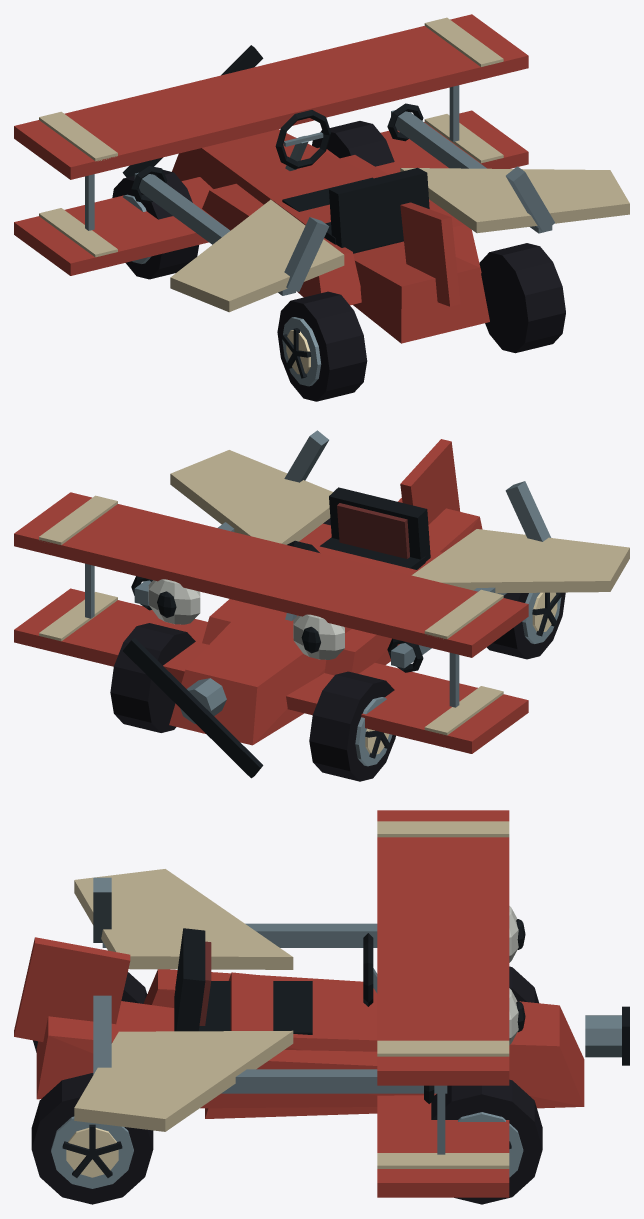
Rendered from kart.glb.
3 renders of one model, top to bottom at view 1: azimuth 30°, elevation 25°; view 2: azimuth 150°, elevation 25°; view 3: azimuth 270°, elevation 25°, orthographic. The views are drawn at different scales.
Visible parts, largest first — view 1: identity-biplane-biplane-dual-wings-and-propeller, identity-biplane-motif-wings, identity-biplane-driver-cockpit, identity-biplane-motif-pipes, wheel-rear-left, wheel-rear-right, wheel-front-left, wheel-front-right; view 2: identity-biplane-biplane-dual-wings-and-propeller, identity-biplane-motif-wings, wheel-front-left, identity-biplane-driver-cockpit, wheel-front-right, identity-biplane-motif-pipes, identity-biplane-motif-eyes, wheel-rear-left; view 3: identity-biplane-biplane-dual-wings-and-propeller, identity-biplane-motif-wings, wheel-rear-right, identity-biplane-motif-pipes, identity-biplane-driver-cockpit, wheel-front-right, identity-biplane-motif-eyes, wheel-front-left, wheel-rear-left.
Part boxes in pixels (<box>): identity-biplane-biplane-dual-wings-and-propeller: <box>14,14,528,343</box>; identity-biplane-motif-wings: <box>170,168,629,312</box>; identity-biplane-driver-cockpit: <box>275,110,429,253</box>; identity-biplane-motif-pipes: <box>131,103,554,295</box>; wheel-rear-left: <box>277,291,367,401</box>; wheel-rear-right: <box>479,243,565,353</box>; wheel-front-left: <box>112,170,198,279</box>; wheel-front-right: <box>312,121,394,166</box>; identity-biplane-biplane-dual-wings-and-propeller: <box>14,439,528,778</box>; identity-biplane-motif-wings: <box>170,450,629,593</box>; wheel-front-left: <box>309,671,395,781</box>; identity-biplane-driver-cockpit: <box>285,487,430,620</box>; wheel-front-right: <box>110,623,195,732</box>; identity-biplane-motif-pipes: <box>131,430,551,672</box>; identity-biplane-motif-eyes: <box>148,579,344,659</box>; wheel-rear-left: <box>487,592,565,659</box>; identity-biplane-biplane-dual-wings-and-propeller: <box>14,810,629,1197</box>; identity-biplane-motif-wings: <box>74,869,293,1131</box>; wheel-rear-right: <box>31,1073,153,1204</box>; identity-biplane-motif-pipes: <box>93,877,447,1103</box>; identity-biplane-driver-cockpit: <box>174,928,377,1034</box>; wheel-front-right: <box>431,1079,542,1204</box>; identity-biplane-motif-eyes: <box>509,906,525,1044</box>; wheel-front-left: <box>509,966,538,1003</box>; wheel-rear-left: <box>33,972,147,1052</box>.
Bounding box in the file's own units: 3.04 × 1.09 × 3.04.
